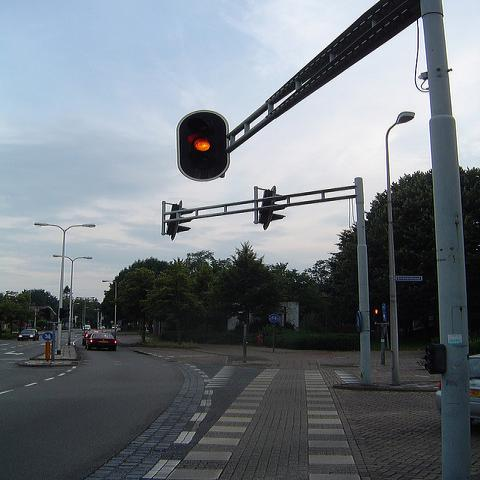car: (436, 378, 479, 422), (83, 332, 117, 351), (17, 329, 39, 341), (85, 325, 91, 330)
